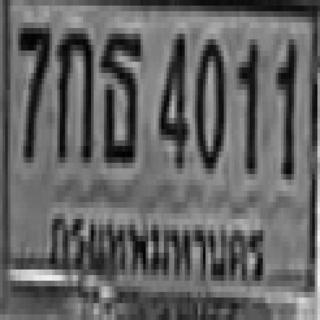A01: (54, 22, 91, 157)
A24: (99, 28, 141, 157)
N00: (193, 34, 224, 168)
N01: (276, 36, 294, 171), (237, 39, 255, 168)
N04: (156, 28, 185, 163)
N07: (16, 22, 49, 157)
P04: (44, 195, 269, 293)
